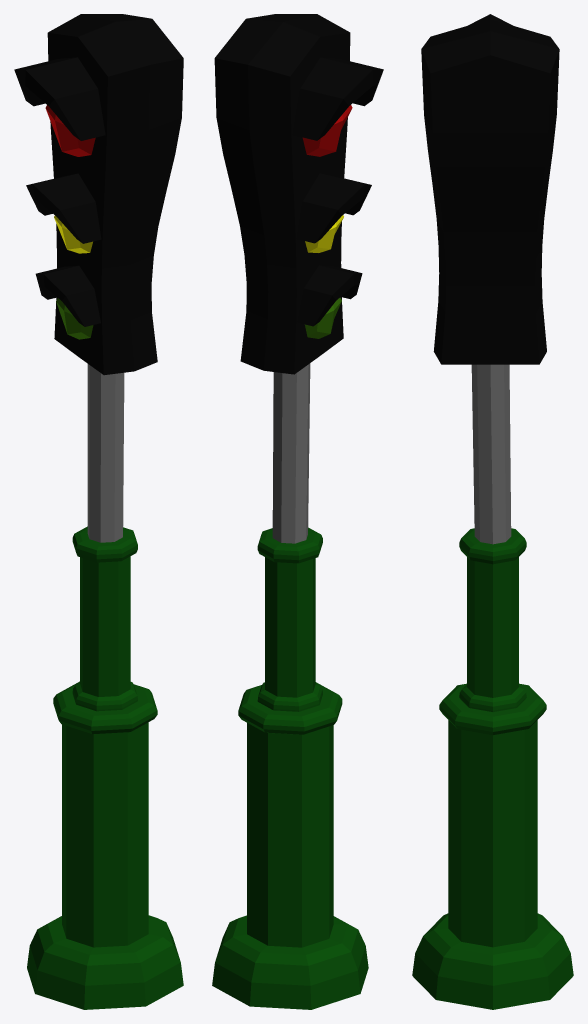
The model's file is RedLight.fbx.
3 views of the same model, side by side, from view 1: azimuth 30°, elevation 25°; view 2: azimuth 150°, elevation 25°; view 3: azimuth 270°, elevation 25° (orthographic).
Visible parts, largest first — view 1: Cube.021; view 2: Cube.021; view 3: Cube.021.
Part boxes in pixels (x1,y1,x2,y2): Cube.021: (14,14,183,1009); Cube.021: (212,14,383,1009); Cube.021: (412,14,573,1009).
Size of the model in its own units: 46.05 by 277 by 42.7.
